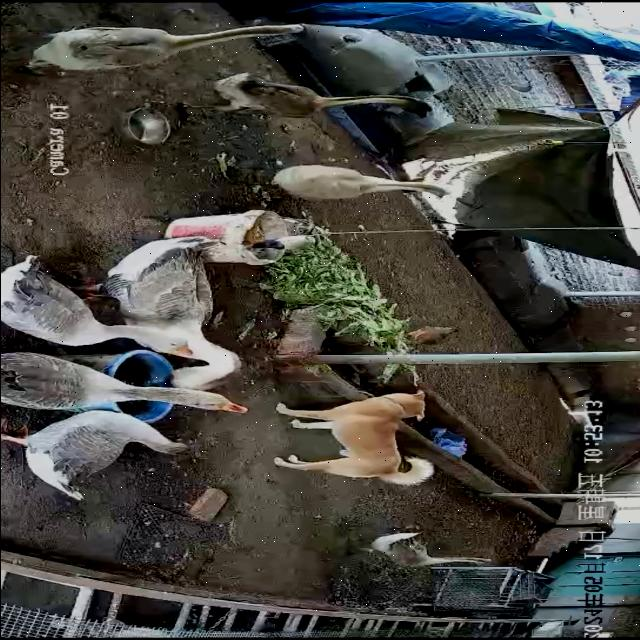dog: (272, 391, 436, 487)
